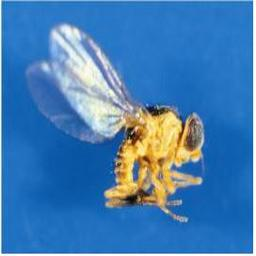liriomyza: (24, 23, 205, 222)
